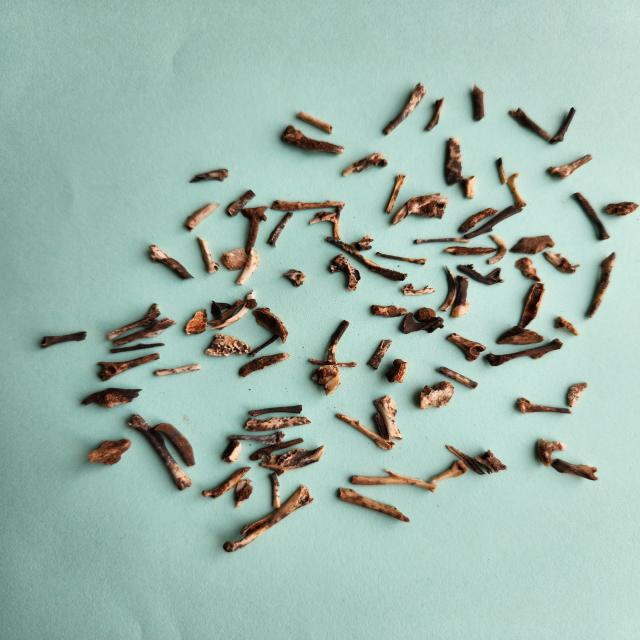fossil: (220, 482, 318, 556), (124, 410, 195, 493), (321, 235, 411, 283), (337, 485, 412, 525), (380, 79, 430, 137), (334, 411, 398, 453), (347, 466, 440, 494), (104, 300, 165, 342), (484, 337, 566, 368), (584, 250, 619, 321), (388, 190, 453, 228), (149, 419, 198, 469), (461, 204, 525, 242), (257, 443, 327, 477), (276, 122, 346, 156), (108, 314, 177, 348), (569, 190, 613, 243), (93, 350, 165, 382), (144, 242, 198, 282), (209, 288, 257, 331), (515, 278, 550, 335), (200, 465, 254, 501), (506, 105, 557, 143), (234, 204, 271, 256), (370, 392, 407, 442), (77, 385, 147, 411), (324, 252, 365, 294), (440, 442, 488, 477), (236, 350, 293, 379), (85, 435, 135, 468), (339, 148, 394, 178), (306, 205, 348, 242), (181, 200, 224, 236), (251, 305, 289, 345), (547, 456, 601, 484), (432, 263, 461, 315), (543, 153, 596, 181), (247, 437, 306, 462), (398, 307, 447, 336), (445, 330, 488, 363), (454, 261, 508, 287), (512, 395, 575, 417), (416, 378, 458, 411), (456, 205, 500, 236), (206, 297, 246, 331), (203, 332, 254, 358), (538, 246, 582, 276), (548, 106, 581, 146), (241, 414, 314, 432), (34, 328, 91, 351), (324, 319, 352, 365), (234, 247, 266, 287), (382, 171, 410, 216), (424, 458, 472, 484), (442, 136, 466, 188), (448, 274, 475, 320), (436, 364, 481, 391), (294, 109, 337, 137), (269, 197, 349, 212), (493, 324, 547, 346), (225, 188, 262, 220), (265, 210, 295, 249), (372, 248, 430, 268), (309, 363, 343, 397), (470, 448, 510, 476), (363, 336, 394, 372), (508, 234, 558, 256), (196, 235, 222, 277), (227, 476, 259, 510), (535, 437, 569, 469), (107, 339, 167, 357), (510, 254, 545, 284), (185, 166, 232, 187), (422, 94, 447, 133), (226, 429, 286, 445), (152, 361, 205, 379), (504, 171, 529, 209), (467, 81, 489, 124), (244, 404, 307, 419), (441, 242, 502, 257), (483, 232, 508, 267), (364, 302, 412, 320), (247, 332, 280, 358), (601, 197, 640, 219), (411, 233, 472, 247), (279, 264, 311, 290), (220, 246, 248, 274), (564, 380, 590, 409), (184, 307, 209, 336), (384, 357, 410, 384), (397, 282, 438, 299), (552, 314, 581, 338), (220, 439, 246, 464), (266, 470, 282, 510), (306, 356, 359, 368), (371, 410, 391, 440), (210, 299, 235, 321), (412, 304, 438, 325), (460, 173, 479, 200), (493, 156, 510, 186)
